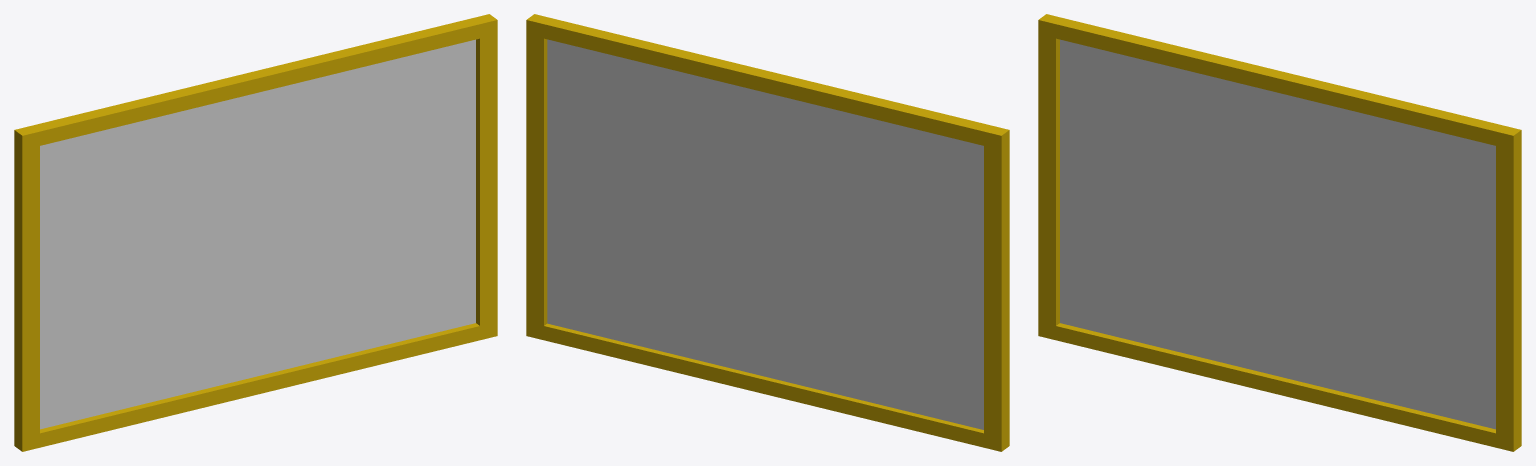
File: LudumDareSmallWindow.fbx
3 views of the same model, side by side, from view 1: azimuth 30°, elevation 25°; view 2: azimuth 150°, elevation 25°; view 3: azimuth 330°, elevation 25° (orthographic).
Visible parts, largest first — view 1: Plane.001, Plane; view 2: Plane.001, Plane; view 3: Plane.001, Plane.
Boxes of the visible parts, x1,y1,x2,y2 form: Plane.001: (40, 39, 475, 429); Plane: (14, 14, 497, 451); Plane.001: (547, 39, 983, 429); Plane: (526, 14, 1009, 451); Plane.001: (1060, 39, 1495, 429); Plane: (1038, 14, 1521, 451).
Size of the model in its own units: 111 by 70.7 by 3.28.
